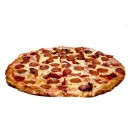pepperonipizza: (7, 46, 126, 97)
